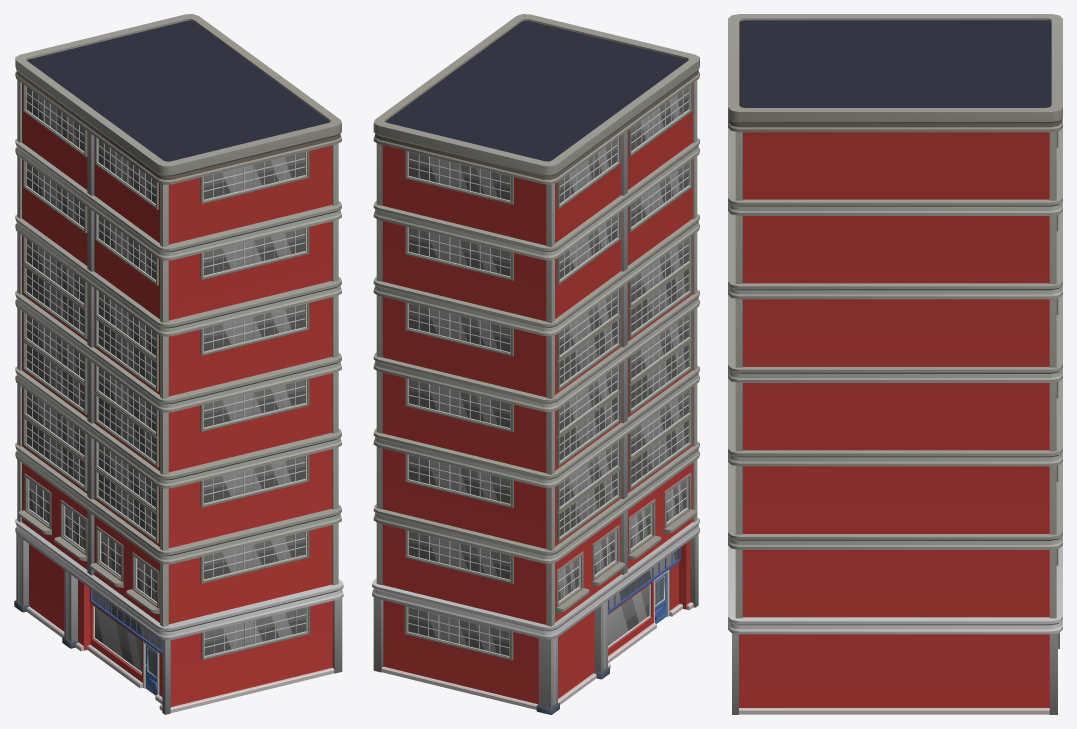
File: Building_11_5_E.fbx
The picture shows the model from 3 angles, left to right: view 1: azimuth 30°, elevation 25°; view 2: azimuth 150°, elevation 25°; view 3: azimuth 270°, elevation 25°; orthographic projection. The views are drawn at different scales.
Visible parts, largest first — view 1: Building_11_5_E; view 2: Building_11_5_E; view 3: Building_11_5_E.
Part boxes in pixels (box(x1,y1,x2,y2)): Building_11_5_E: box(14, 14, 343, 714); Building_11_5_E: box(372, 14, 699, 714); Building_11_5_E: box(728, 14, 1062, 714).
Size of the model in its own units: 827 by 2314 by 1163.
